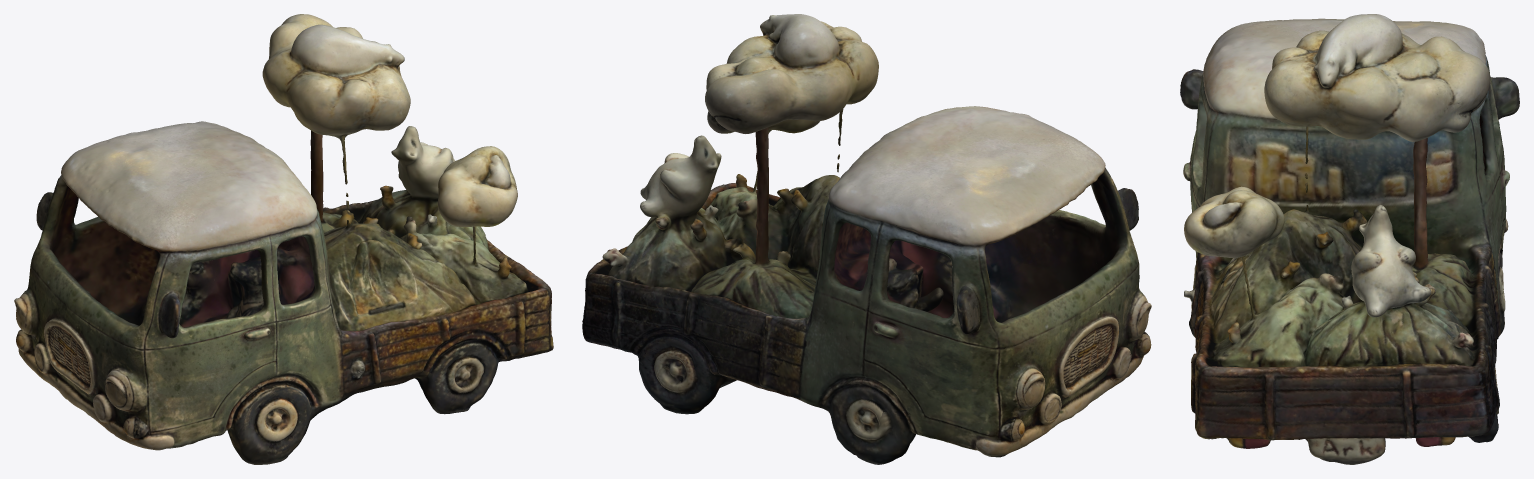
Rendered from truck_masked_web.glb.
3 renders of one model, left to right at view 1: azimuth 30°, elevation 25°; view 2: azimuth 150°, elevation 25°; view 3: azimuth 270°, elevation 25°, orthographic. The views are drawn at different scales.
Visible parts, largest first — view 1: ObjectCapture; view 2: ObjectCapture; view 3: ObjectCapture.
Part boxes in pixels (x1,y1,x2,y2): ObjectCapture: (14,14,553,464); ObjectCapture: (582,14,1151,464); ObjectCapture: (1180,14,1519,464).
Size of the model in its own units: 0.3773 by 0.2913 by 0.2316.
Materials: 1 (1 with a texture image).
